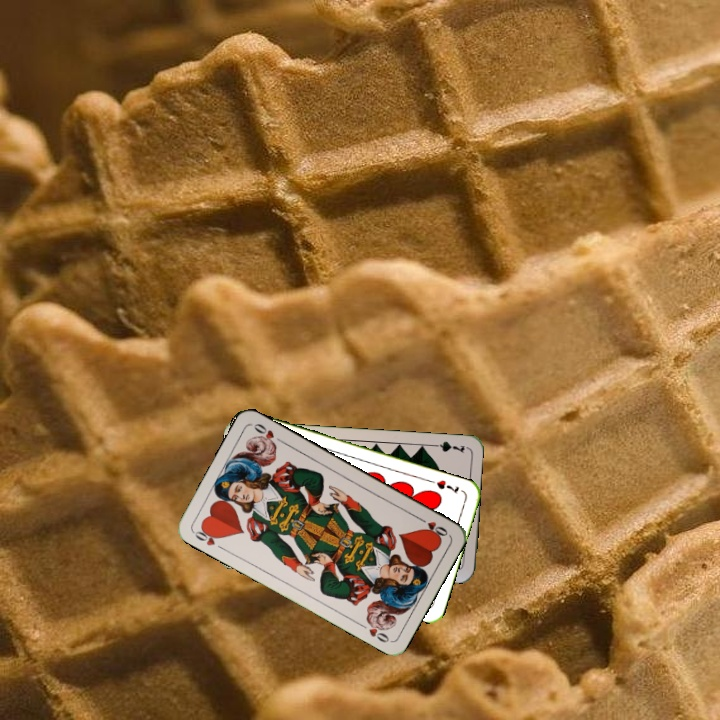G7: (427, 437, 467, 456)
H7: (426, 476, 462, 497)
HO: (189, 523, 227, 553), (414, 513, 450, 540)
